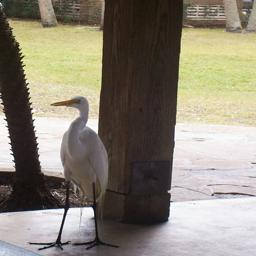bird: (42, 128, 161, 256)
